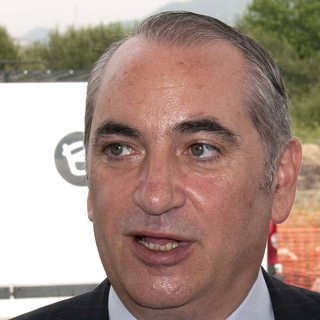eye: (176, 140, 224, 163), (98, 139, 142, 162)
